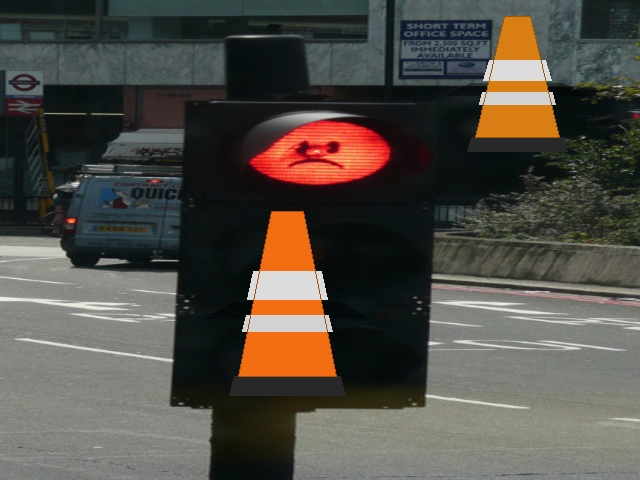traffic-cone: (229, 211, 345, 395), (467, 16, 567, 151)
